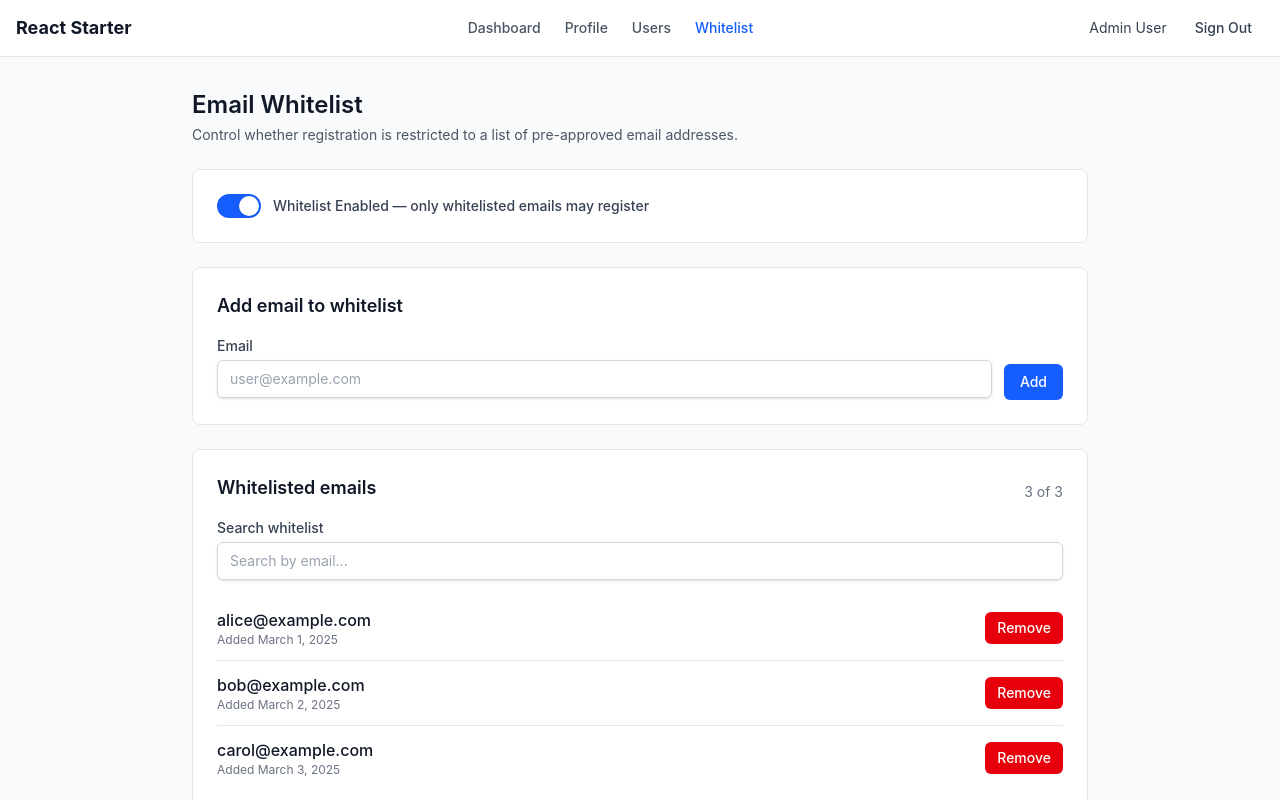
WhitelistPage › shows session-invalidation warning when whitelist is enabled
Check: the text "alice@example.com" is shown, box [217,608,371,632]
Click the button "Remove" in the row of "alice@example.com". click: [1024, 628]
box: [985,612,1063,644]
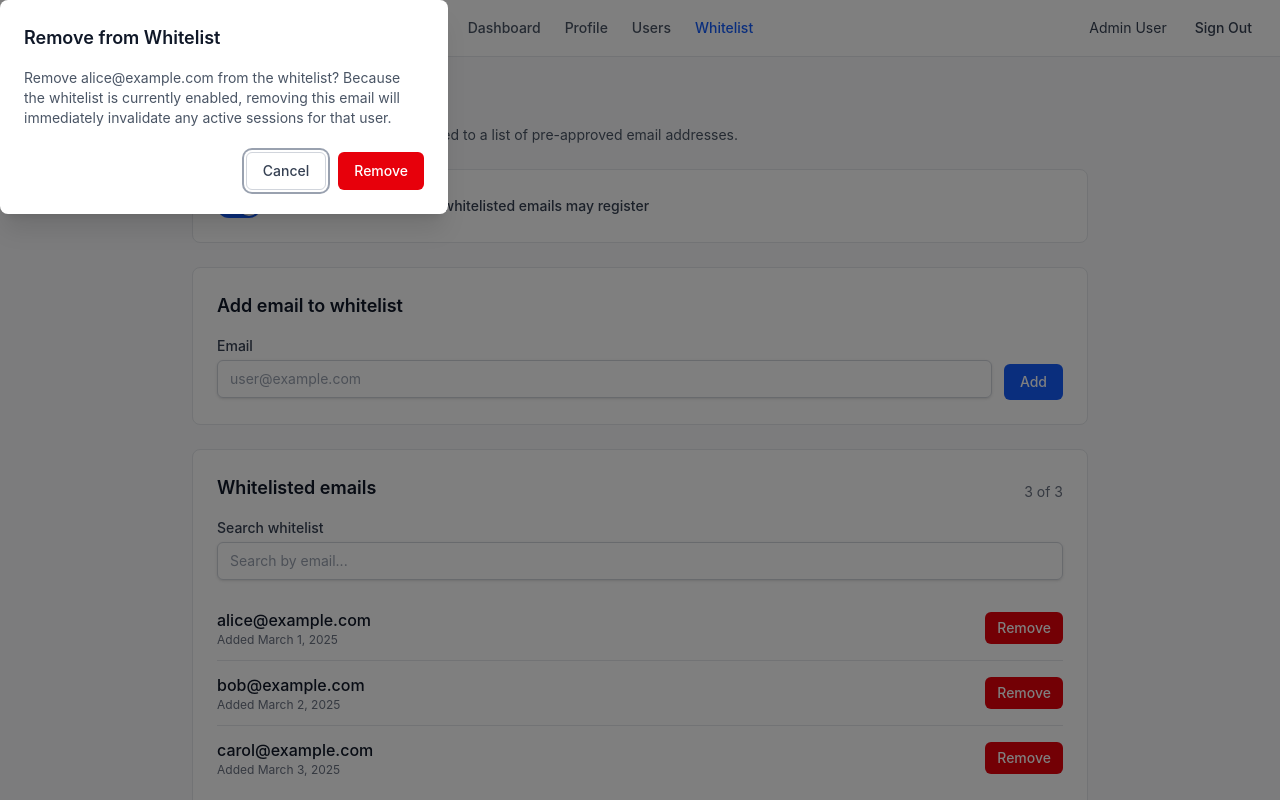
Check: the dialog is shown, box [0,0,448,214]
Check: the dialog shows "immediately invalidate any active sessions", box [24,69,400,126]
Check: the dialog shows "alice@example.com", box [24,69,400,126]
